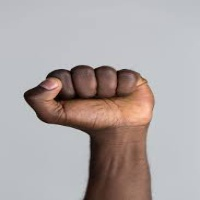ring: (92, 65, 117, 100)
